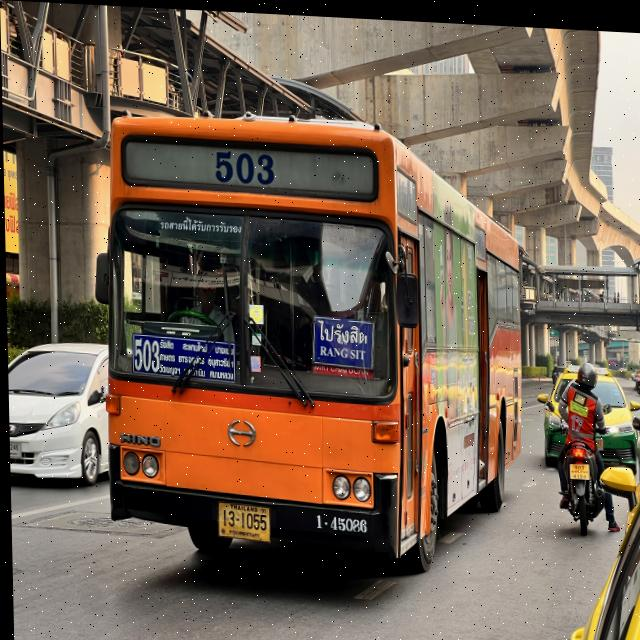BMTA-bus: (84, 97, 531, 579)
Bus-Line-Number: (205, 142, 286, 189)
Destination-Sign-Normal: (311, 310, 374, 366)
